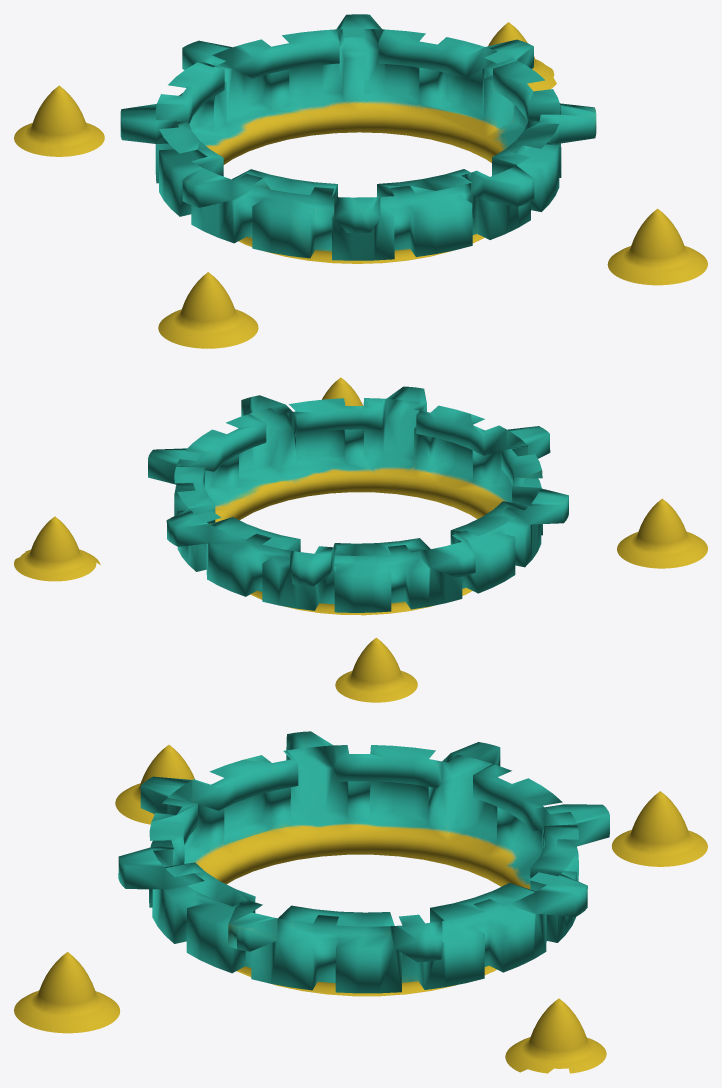
File: parte2.glb
The picture shows the model from 3 angles, top to bottom: view 1: azimuth 30°, elevation 25°; view 2: azimuth 150°, elevation 25°; view 3: azimuth 270°, elevation 25°; orthographic projection. The views are drawn at different scales.
Parts seen in each view (by area): view 1: node_id5.002; view 2: node_id5.002; view 3: node_id5.002.
Boxes of the visible parts, x1,y1,x2,y2 form: node_id5.002: (14, 14, 707, 348); node_id5.002: (14, 377, 707, 702); node_id5.002: (14, 731, 707, 1073).
Size of the model in its own units: 0.2591 by 0.0404 by 0.2596.
Materials: 1 (1 with a texture image).
